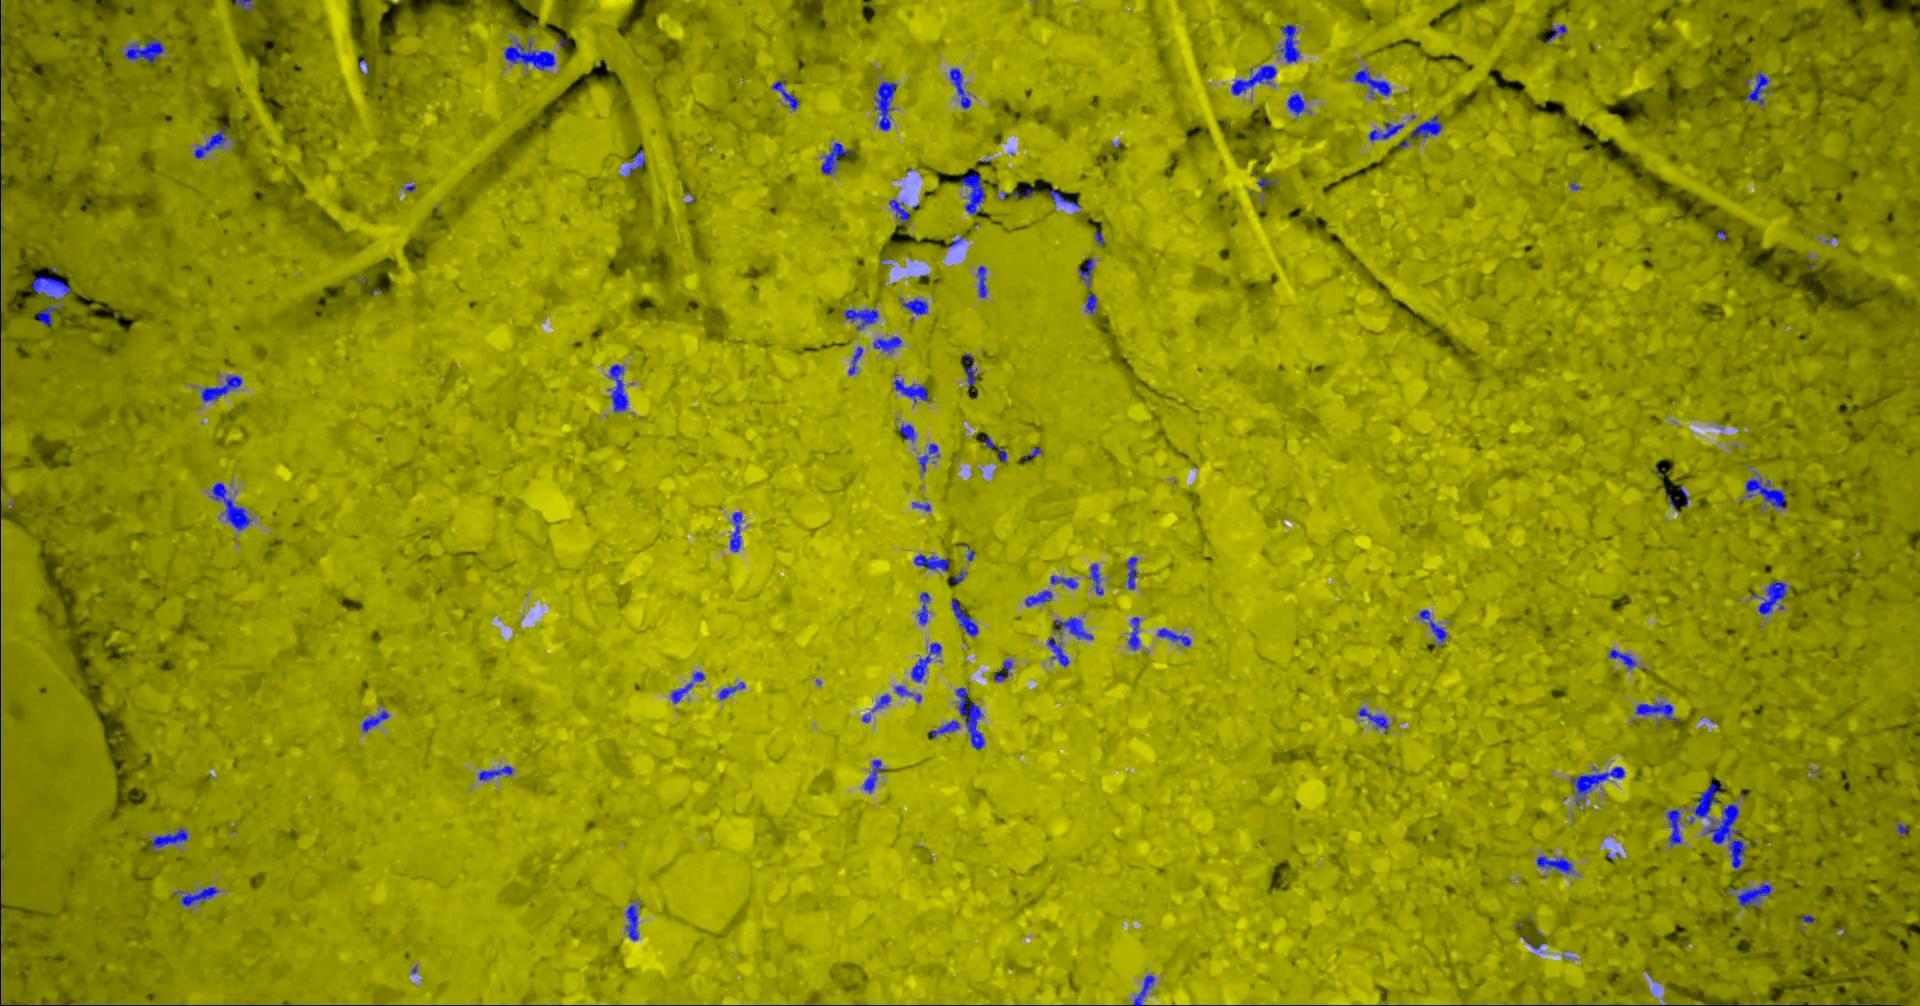ant: (1570, 766, 1624, 805), (210, 481, 251, 530), (955, 687, 984, 749), (503, 39, 555, 70), (1230, 65, 1276, 95), (1745, 476, 1785, 508), (910, 641, 941, 681), (1751, 580, 1787, 614), (874, 81, 897, 130), (201, 375, 241, 401), (1352, 69, 1390, 97), (1418, 608, 1446, 647), (670, 671, 703, 702), (193, 127, 225, 158), (820, 142, 851, 174), (961, 171, 984, 213), (893, 373, 927, 401), (1736, 882, 1771, 908), (1634, 701, 1680, 721), (124, 39, 163, 64), (951, 600, 977, 635), (30, 276, 70, 298), (608, 365, 627, 412), (771, 79, 799, 111), (949, 67, 970, 108), (1277, 24, 1299, 64), (1054, 617, 1093, 639), (1357, 708, 1389, 733), (1743, 72, 1768, 104), (863, 760, 886, 793), (843, 307, 877, 329), (1410, 114, 1441, 137), (1131, 976, 1156, 1005), (150, 828, 187, 847), (182, 887, 218, 906), (1368, 122, 1403, 141), (1537, 855, 1573, 873), (1156, 627, 1190, 647), (913, 553, 949, 570), (1046, 636, 1068, 666), (1665, 808, 1681, 846), (1048, 188, 1079, 207), (984, 434, 1006, 462), (361, 709, 389, 730), (1608, 649, 1636, 669), (477, 765, 512, 780), (888, 199, 909, 224), (930, 720, 959, 738), (729, 511, 742, 551), (960, 354, 977, 385), (625, 902, 637, 940), (626, 149, 644, 175), (717, 681, 744, 699), (894, 685, 921, 702), (1023, 589, 1051, 606), (916, 591, 930, 624), (872, 337, 902, 352), (847, 345, 862, 375), (1090, 563, 1103, 594), (1286, 93, 1305, 116), (1128, 616, 1140, 650), (1078, 257, 1093, 285), (36, 305, 56, 325), (900, 298, 927, 314), (1545, 23, 1566, 42), (897, 422, 916, 442), (1125, 556, 1137, 589), (871, 694, 890, 713), (993, 661, 1011, 681), (1049, 575, 1077, 588), (977, 265, 985, 297), (1084, 292, 1096, 312), (1023, 447, 1041, 460), (234, 0, 253, 11), (917, 453, 928, 473), (1011, 188, 1034, 197), (910, 502, 930, 511), (1095, 230, 1105, 246)
